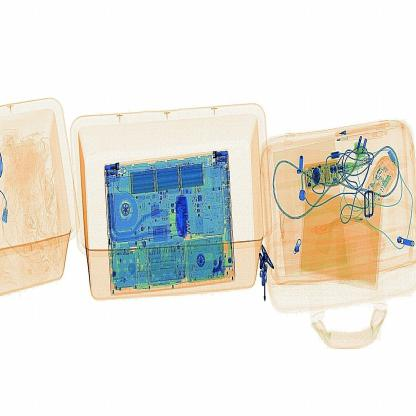scissors: (170, 189, 198, 247)
